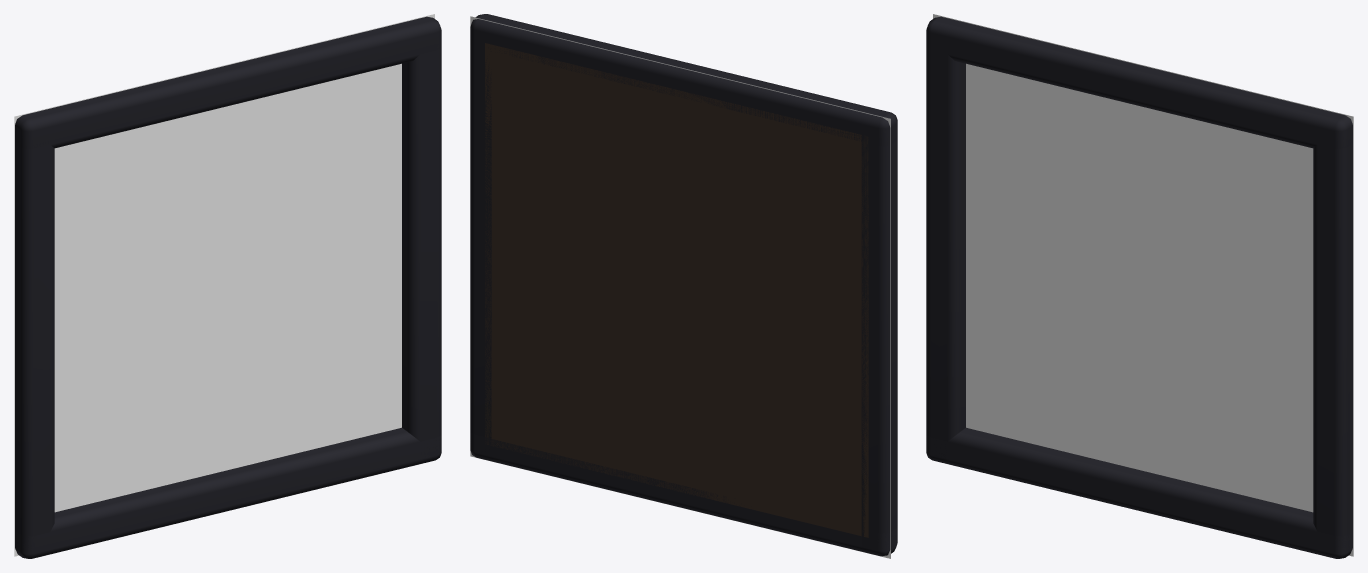
The model's file is furn_contract_frame.glb.
The picture shows the model from 3 angles, left to right: view 1: azimuth 30°, elevation 25°; view 2: azimuth 150°, elevation 25°; view 3: azimuth 330°, elevation 25°; orthographic projection.
Parts seen in each view (by area): view 1: furn_contract_frame_pic, furn_contract_frame_main; view 2: furn_contract_frame_main, furn_contract_frame_pic; view 3: furn_contract_frame_pic, furn_contract_frame_main.
Part boxes in pixels (left/top/right/bottom): furn_contract_frame_pic: left=14, top=14, right=434, bottom=556; furn_contract_frame_main: left=15, top=16, right=441, bottom=558; furn_contract_frame_main: left=470, top=14, right=897, bottom=556; furn_contract_frame_pic: left=470, top=16, right=890, bottom=558; furn_contract_frame_pic: left=933, top=14, right=1353, bottom=556; furn_contract_frame_main: left=926, top=16, right=1352, bottom=558.
Bounding box in the file's own units: 1 × 1 × 0.06.
